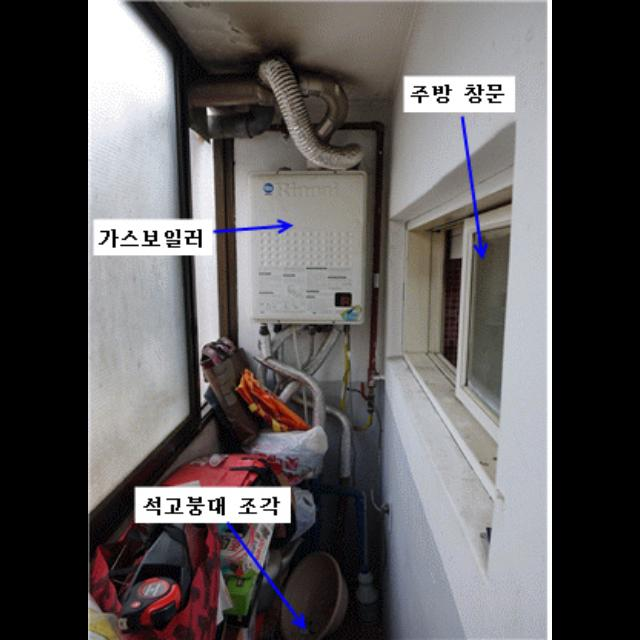Boiler: (230, 148, 382, 352)
